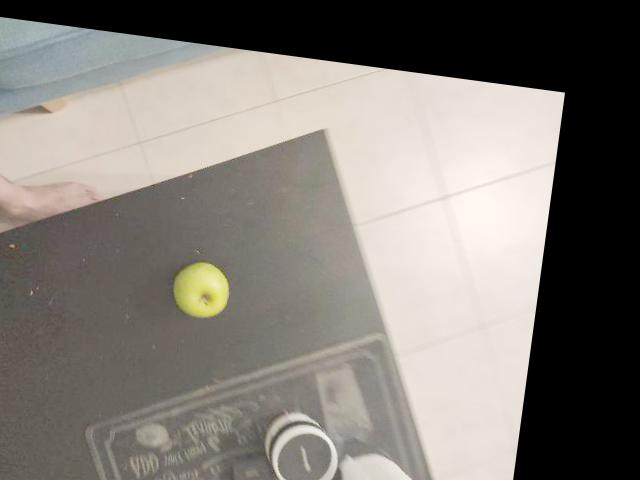apple: (251, 148, 345, 240)
